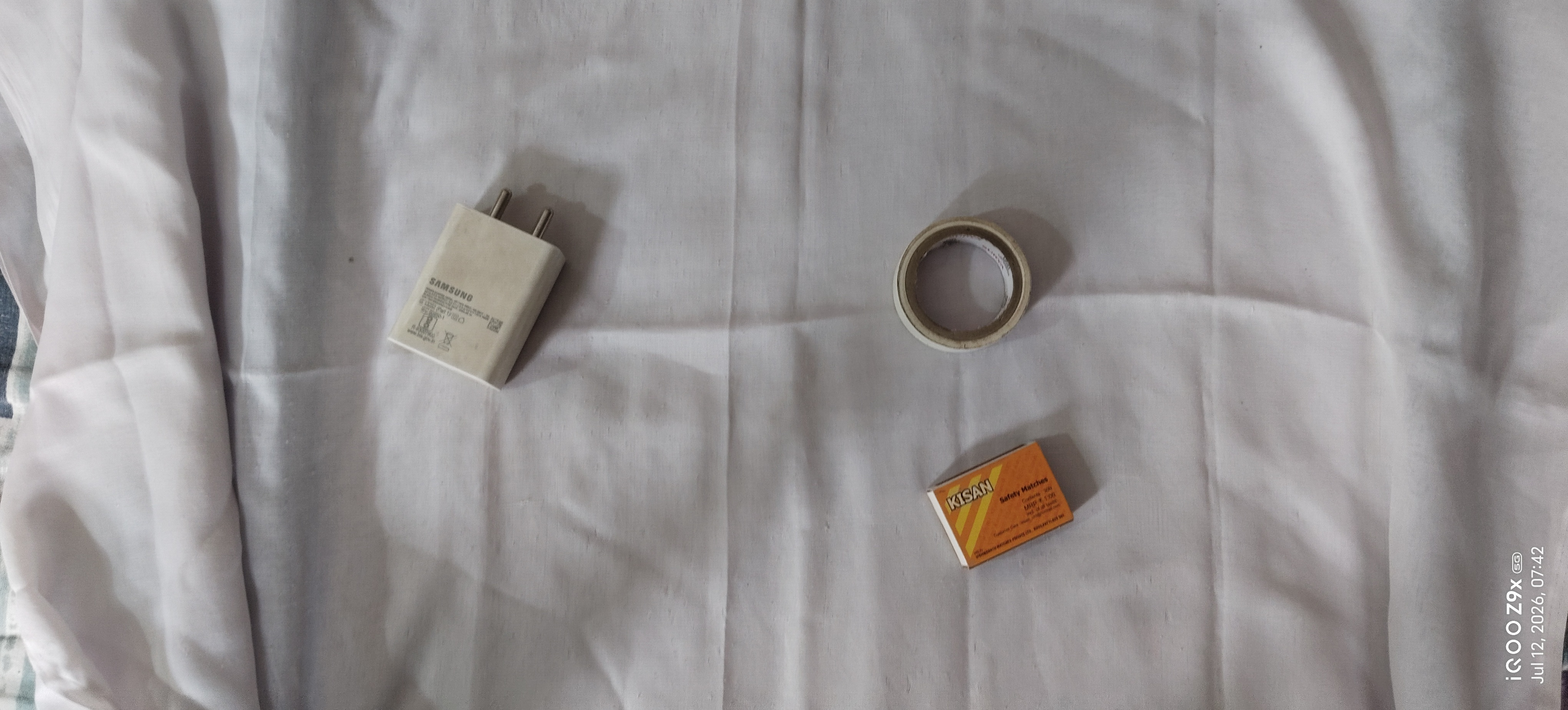charger: (374, 139, 599, 398)
matchbox: (908, 431, 1126, 584)
tape_roll: (858, 199, 1066, 371)
